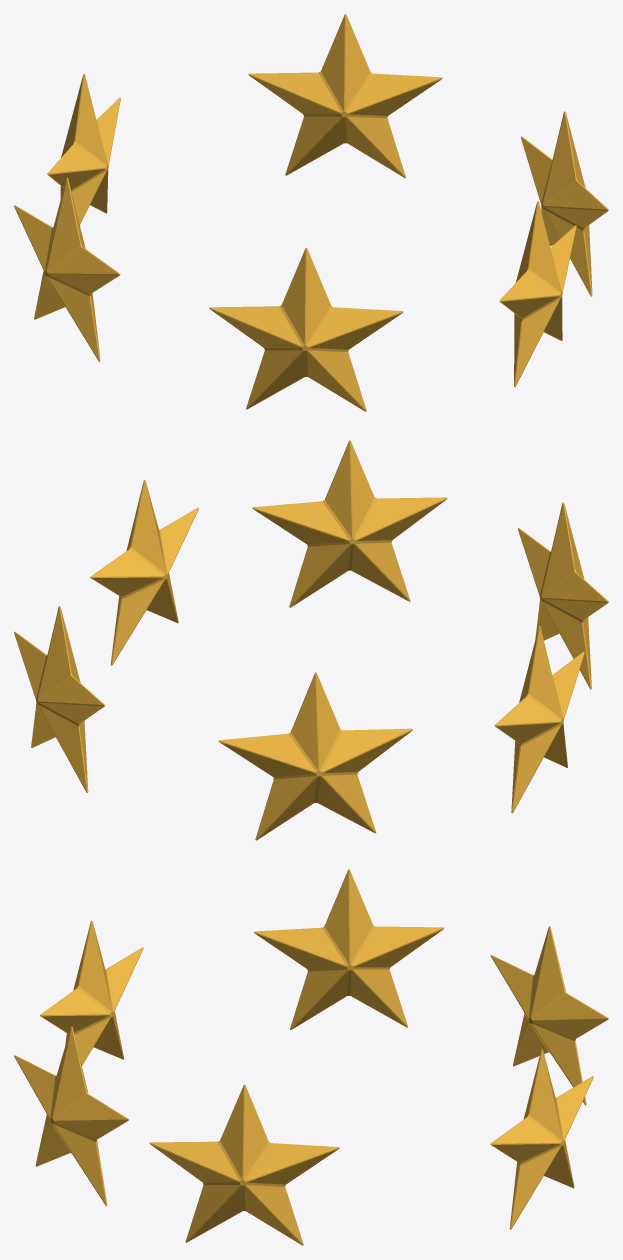
File: stunStars.fbx
3 views of the same model, one above another, from view 1: azimuth 30°, elevation 25°; view 2: azimuth 150°, elevation 25°; view 3: azimuth 270°, elevation 25° (orthographic). The views are drawn at different scales.
Parts seen in each view (by area): view 1: Cylinder01.1, Cylinder01, Cylinder01.5, Cylinder01.3, Cylinder01.4, Cylinder01.2; view 2: Cylinder01.3, Cylinder01.2, Cylinder01.4, Cylinder01, Cylinder01.5, Cylinder01.1; view 3: Cylinder01.5, Cylinder01.4, Cylinder01.3, Cylinder01.2, Cylinder01, Cylinder01.1.
Boxes of the visible parts, left/top/right/bottom form: Cylinder01.1: left=209, top=247, right=403, bottom=411; Cylinder01: left=248, top=14, right=442, bottom=177; Cylinder01.5: left=14, top=178, right=120, bottom=361; Cylinder01.3: left=499, top=201, right=576, bottom=387; Cylinder01.4: left=521, top=111, right=608, bottom=296; Cylinder01.2: left=47, top=74, right=120, bottom=224; Cylinder01.3: left=252, top=440, right=447, bottom=607; Cylinder01.2: left=218, top=672, right=412, bottom=840; Cylinder01.4: left=90, top=480, right=198, bottom=665; Cylinder01: left=14, top=606, right=105, bottom=792; Cylinder01.5: left=494, top=626, right=584, bottom=813; Cylinder01.1: left=518, top=502, right=608, bottom=689; Cylinder01.5: left=254, top=869, right=443, bottom=1029; Cylinder01.4: left=149, top=1084, right=339, bottom=1245; Cylinder01.3: left=14, top=1026, right=128, bottom=1205; Cylinder01.2: left=490, top=926, right=608, bottom=1105; Cylinder01: left=490, top=1049, right=593, bottom=1229; Cylinder01.1: left=40, top=920, right=143, bottom=1065.
Bounding box in the file's own units: 43.92 × 14.23 × 47.34.
